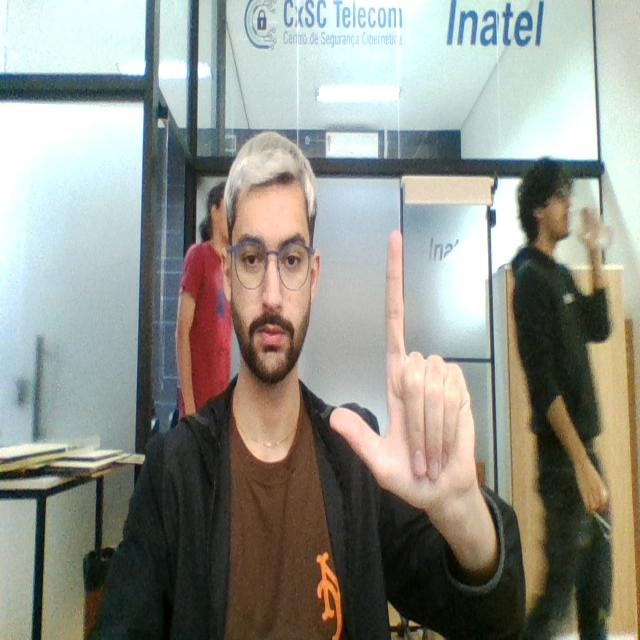L: (327, 224, 481, 514)
